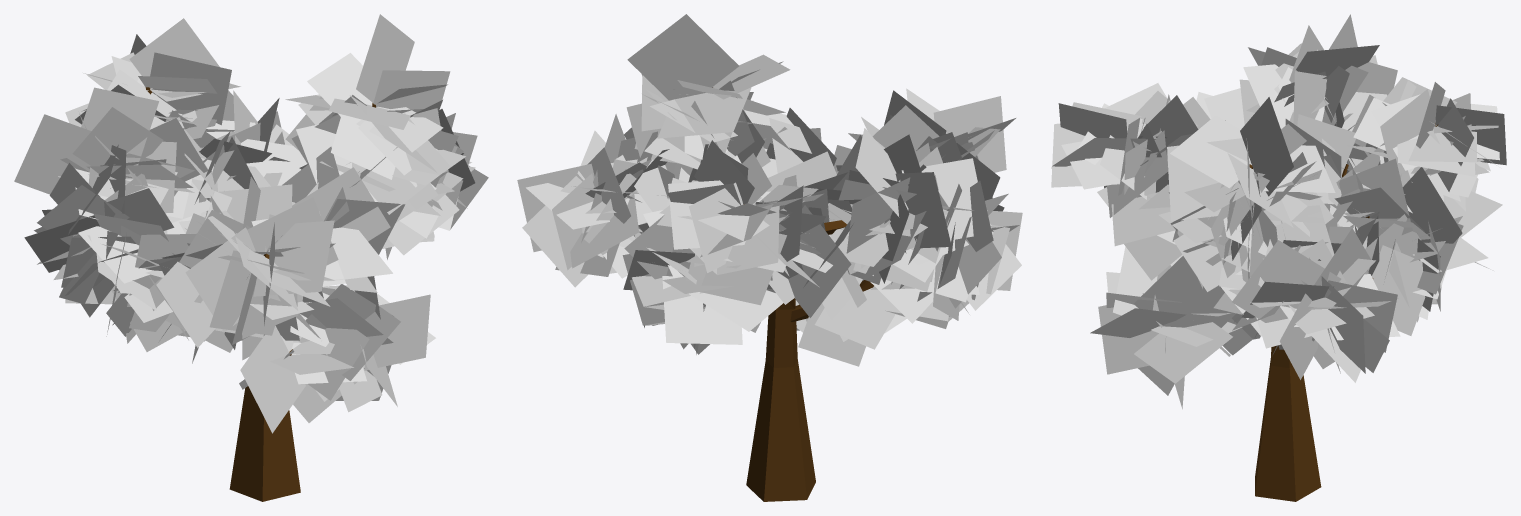
Rendered from tree_(1).glb.
The picture shows the model from 3 angles, left to right: view 1: azimuth 30°, elevation 25°; view 2: azimuth 150°, elevation 25°; view 3: azimuth 270°, elevation 25°; orthographic projection. The views are drawn at different scales.
Visible parts, largest first — view 1: Tree_green01_Cube.007, Tree_green01_Cube.007_f29fad; view 2: Tree_green01_Cube.007, Tree_green01_Cube.007_f29fad; view 3: Tree_green01_Cube.007, Tree_green01_Cube.007_f29fad.
Part boxes in pixels (x1=…): Tree_green01_Cube.007: x1=14, y1=14, x2=488, y2=433; Tree_green01_Cube.007_f29fad: x1=145, y1=87, x2=375, y2=501; Tree_green01_Cube.007: x1=517, y1=14, x2=1022, y2=366; Tree_green01_Cube.007_f29fad: x1=744, y1=204, x2=873, y2=501; Tree_green01_Cube.007: x1=1051, y1=14, x2=1506, y2=409; Tree_green01_Cube.007_f29fad: x1=1249, y1=123, x2=1438, y2=501.
Bounding box in the file's own units: 6.43 × 6 × 5.62.
